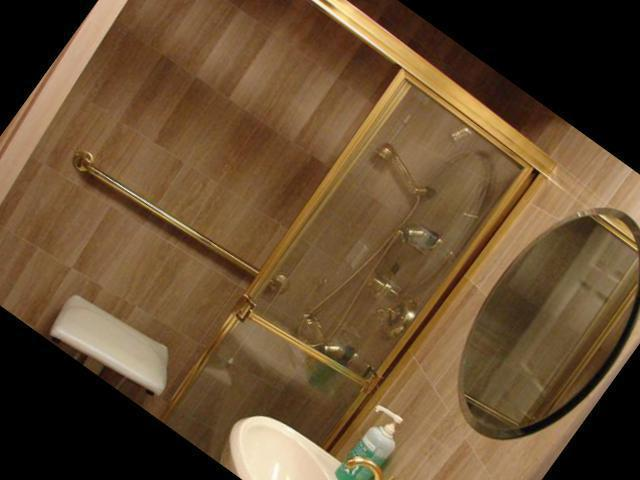Ducha: (0, 0, 566, 480)
Lavamanos: (191, 360, 486, 480)
